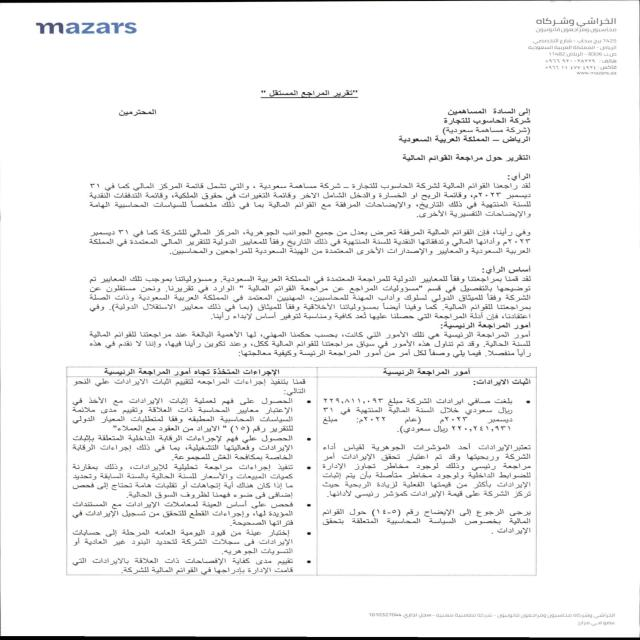auditor_report: (235, 84, 366, 107)
